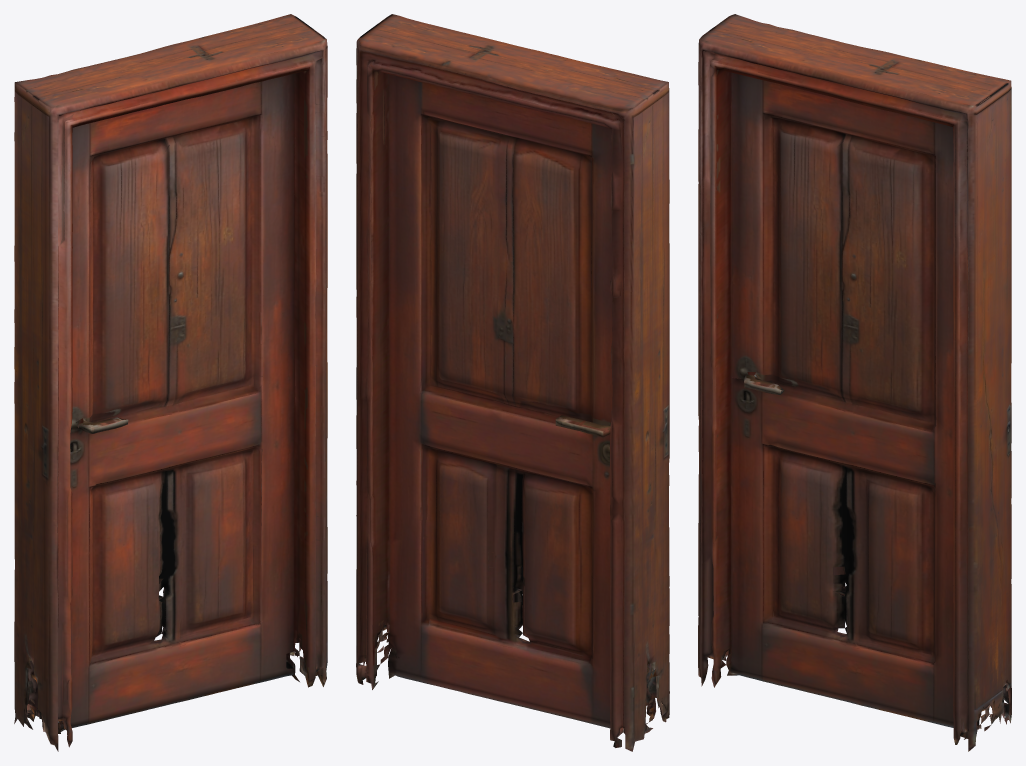
File: A_horror_style_wooden_0420194235_texture.fbx
3 views of the same model, side by side, from view 1: azimuth 30°, elevation 25°; view 2: azimuth 150°, elevation 25°; view 3: azimuth 330°, elevation 25° (orthographic).
Visible parts, largest first — view 1: Mesh1; view 2: Mesh1; view 3: Mesh1.
Boxes of the visible parts, bbox=[...] form: Mesh1: bbox=[14, 14, 327, 751]; Mesh1: bbox=[356, 14, 669, 751]; Mesh1: bbox=[698, 14, 1011, 751].
Size of the model in its own units: 90.91 by 201 by 23.77.
1 material, 1 textured.
